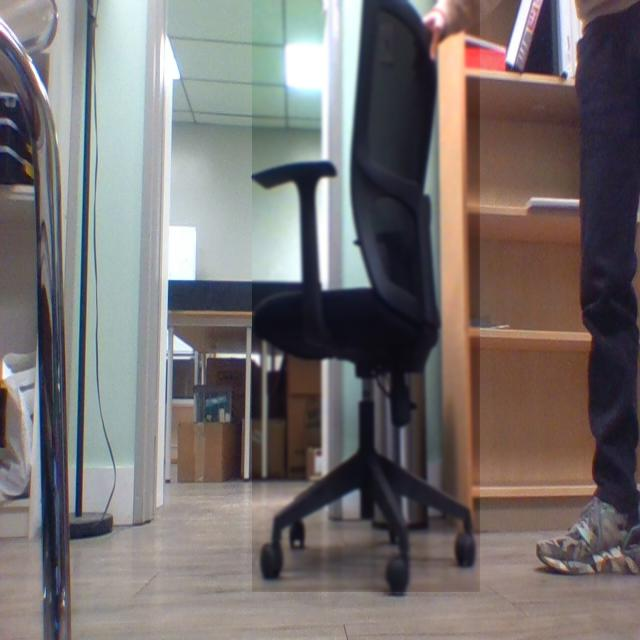black-chair: (252, 0, 481, 593)
